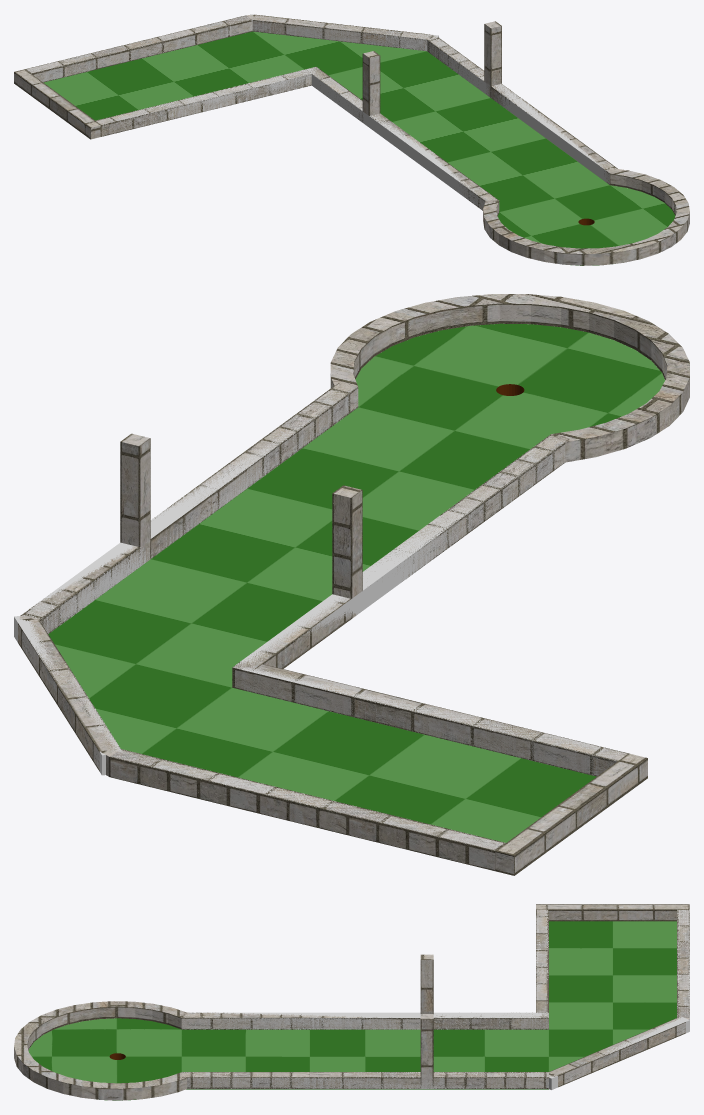
The model's file is Alpha Map 1.2.fbx.
3 renders of one model, top to bottom at view 1: azimuth 30°, elevation 25°; view 2: azimuth 150°, elevation 25°; view 3: azimuth 270°, elevation 25°, orthographic. The views are drawn at different scales.
Parts seen in each view (by area): view 1: Pre Bump, Visual Border, Hole, Hole bORDER, Cube.003, Cube.004, Cube.001, Cube.002, Cube; view 2: Pre Bump, Visual Border, Hole, Hole bORDER, Cube.004, Cube.003, Cube.001, Cube, Cube.002; view 3: Pre Bump, Visual Border, Hole, Hole bORDER, Cube.004, Cube.003, Cube.002, Cube.
Part boxes in pixels (<box>): Pre Bump: <box>43,31,545,162</box>; Visual Border: <box>14,14,617,210</box>; Hole: <box>447,138,675,265</box>; Hole bORDER: <box>483,168,689,265</box>; Cube.003: <box>427,38,615,184</box>; Cube.004: <box>311,67,496,209</box>; Cube.001: <box>98,68,315,136</box>; Cube.002: <box>248,14,438,51</box>; Cube: <box>26,15,252,82</box>; Pre Bump: <box>48,489,596,842</box>; Visual Border: <box>18,383,647,875</box>; Hole: <box>247,323,664,530</box>; Hole bORDER: <box>330,294,689,462</box>; Cube.004: <box>233,435,565,668</box>; Cube.003: <box>22,385,358,633</box>; Cube.001: <box>241,665,624,776</box>; Cube: <box>111,749,504,850</box>; Cube.002: <box>14,616,122,775</box>; Pre Bump: <box>310,921,676,1089</box>; Visual Border: <box>181,904,689,1088</box>; Hole: <box>28,1018,309,1100</box>; Hole bORDER: <box>14,1001,193,1100</box>; Cube.004: <box>182,1012,548,1029</box>; Cube.003: <box>184,1072,548,1088</box>; Cube.002: <box>546,1017,689,1089</box>; Cube: <box>677,910,689,1017</box>.
Size of what is drawn, in the model's own units: 6821 by 1338 by 10555.
3 materials, 2 textured.
